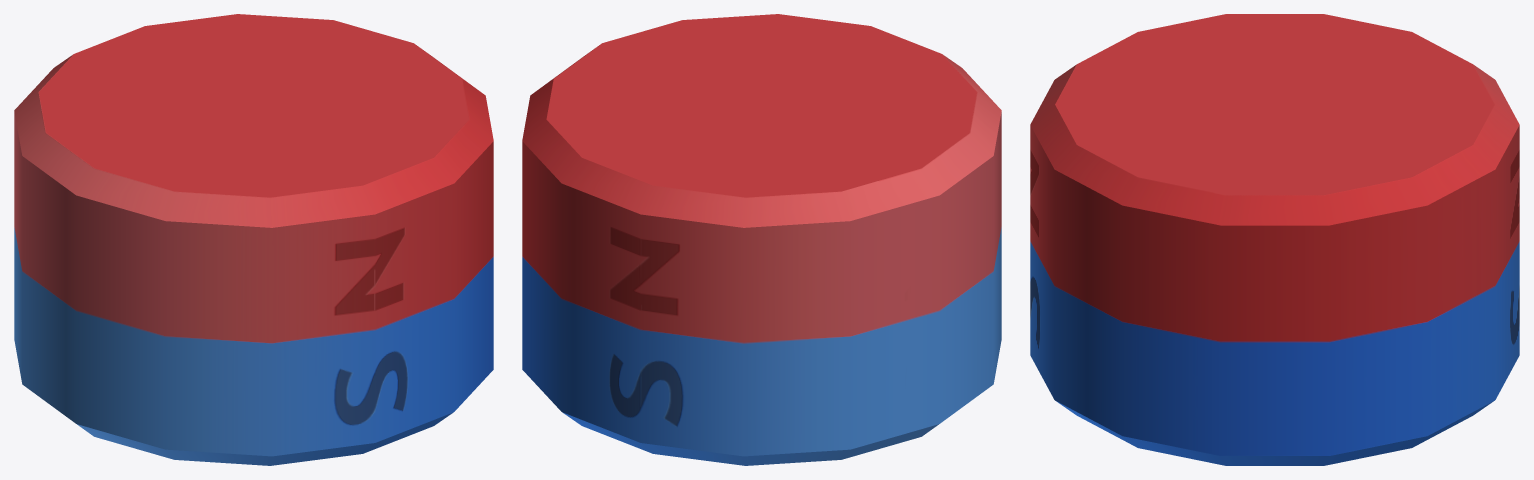
Rendered from Magnet.fbx.
The picture shows the model from 3 angles, left to right: view 1: azimuth 30°, elevation 25°; view 2: azimuth 150°, elevation 25°; view 3: azimuth 270°, elevation 25°; orthographic projection.
Parts seen in each view (by area): view 1: Magnet; view 2: Magnet; view 3: Magnet.
Boxes of the visible parts, x1,y1,x2,y2 form: Magnet: (14, 14, 493, 465); Magnet: (522, 14, 1001, 465); Magnet: (1030, 14, 1519, 465).
Size of the model in its own units: 10.37 by 6.49 by 10.64.
